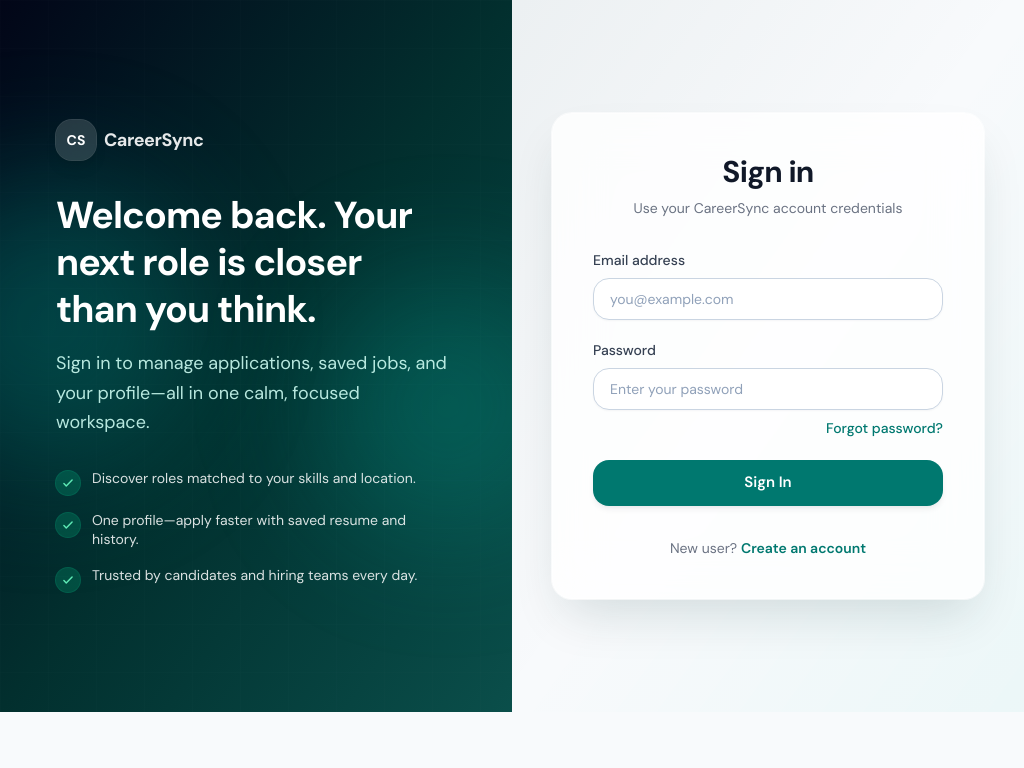
Scenario: LoginPage › should show validation error when submitting empty form
Expected: the field labelled "Email address" is shown, [593,278,943,320]
Click the button "Sign In" at (768, 483), box [593,460,943,506]
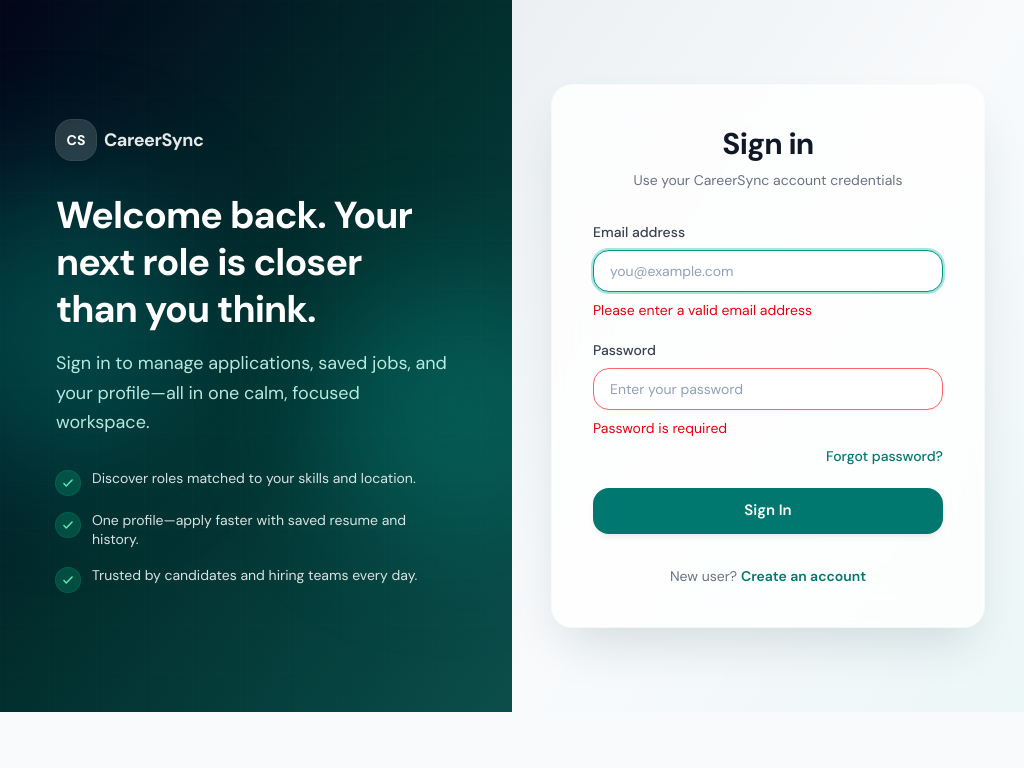
Expected: the text "Please enter a valid email address" is shown, [593,301,812,319]
Expected: the text "Password is required" is shown, [593,419,727,437]
